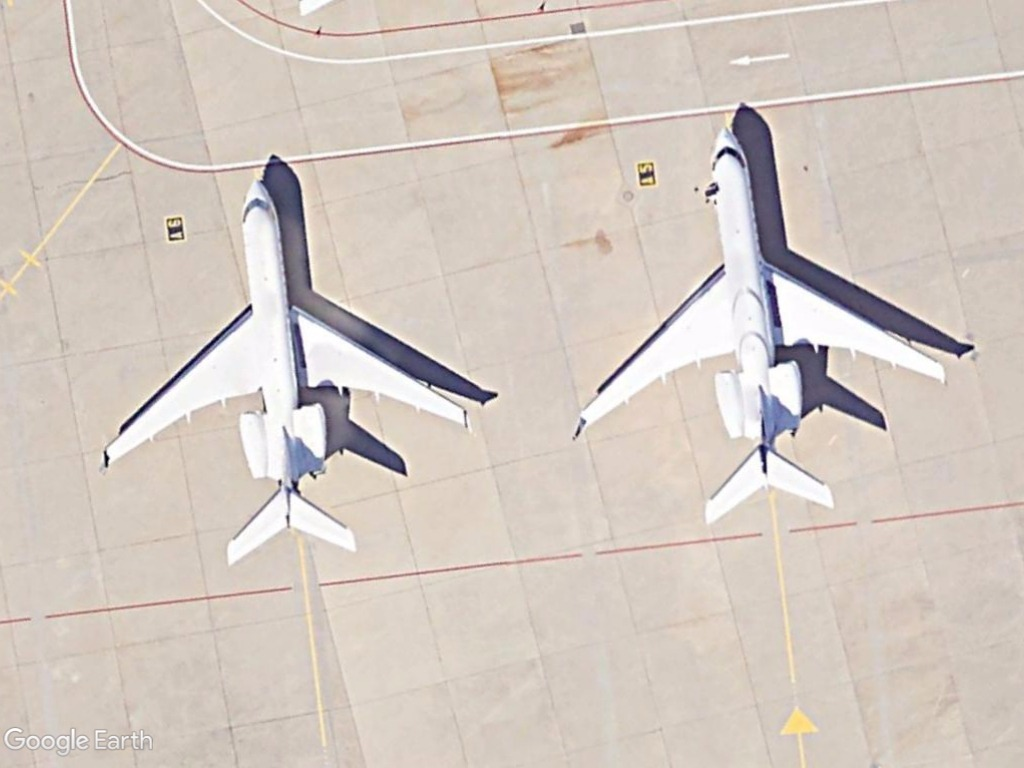chartered: (564, 117, 949, 529), (98, 174, 473, 569)
